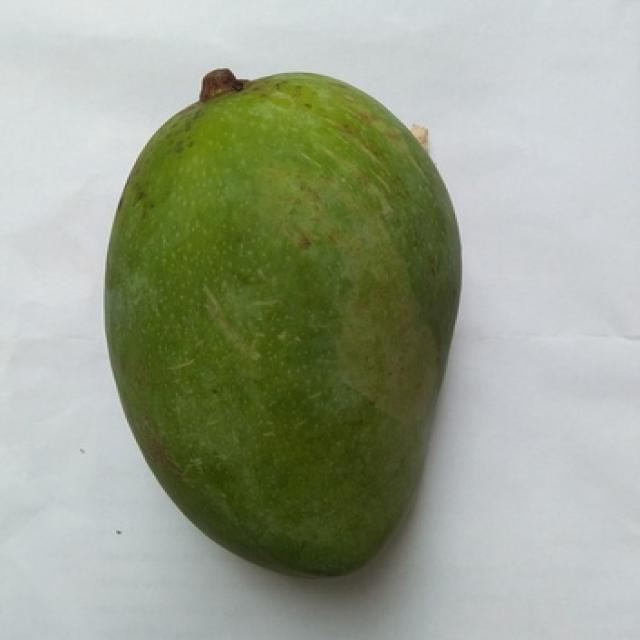Mango: (105, 73, 457, 570)
